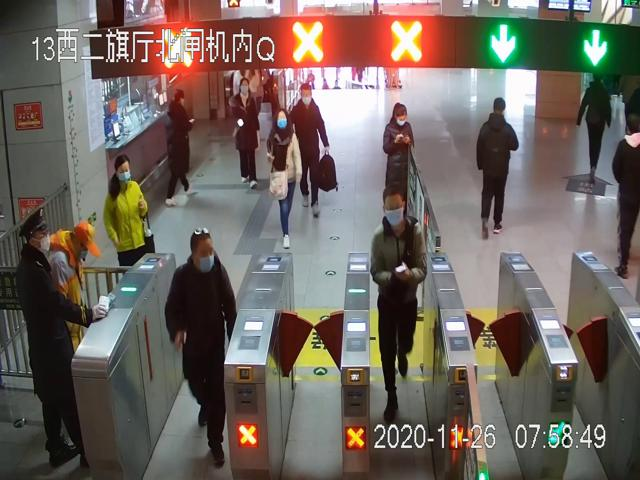person: (14, 205, 95, 472), (168, 219, 239, 469), (366, 187, 419, 430), (47, 212, 103, 364), (470, 94, 521, 242), (291, 85, 337, 220), (103, 155, 155, 266), (262, 102, 301, 249), (161, 88, 199, 208), (382, 96, 419, 215), (615, 115, 639, 280), (579, 70, 613, 181), (232, 81, 265, 188)
